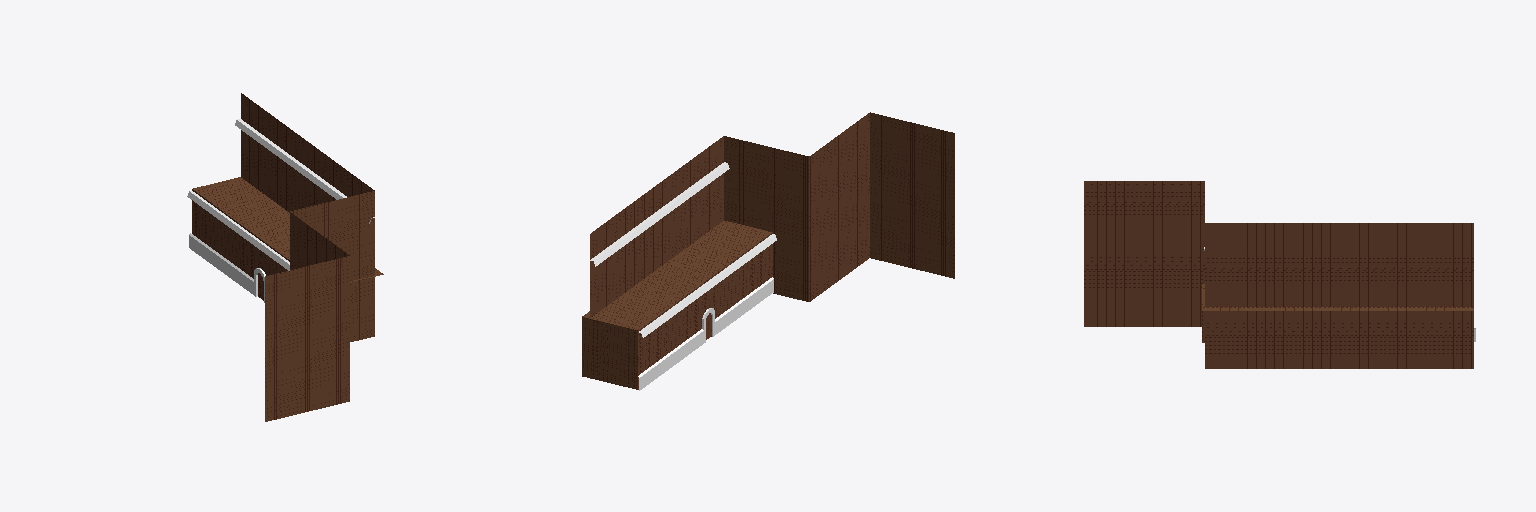
3 renders of one model, left to right at view 1: azimuth 30°, elevation 25°; view 2: azimuth 150°, elevation 25°; view 3: azimuth 270°, elevation 25°, orthographic.
Parts seen in each view (by area): view 1: walls; view 2: walls; view 3: walls.
Part boxes in pixels (left/top/right/bottom): walls: left=187, top=93, right=383, bottom=421; walls: left=582, top=112, right=954, bottom=390; walls: left=1084, top=181, right=1475, bottom=368.
Size of the model in its own units: 23 by 17.96 by 43.75.
Materials: 2 (1 with a texture image).